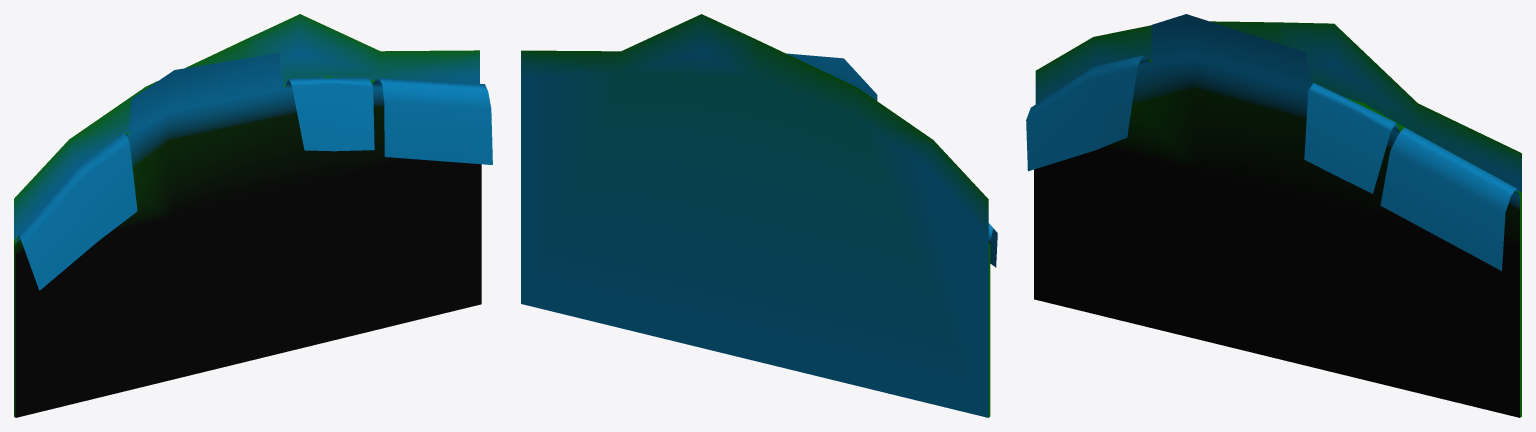
The model's file is DBK_Drywall_Tile_B_Single.fbx.
3 renders of one model, left to right at view 1: azimuth 30°, elevation 25°; view 2: azimuth 150°, elevation 25°; view 3: azimuth 330°, elevation 25°, orthographic. The views are drawn at different scales.
Visible parts, largest first — view 1: DBK_Drywall_Tile_B_Single; view 2: DBK_Drywall_Tile_B_Single; view 3: DBK_Drywall_Tile_B_Single.
Part boxes in pixels (x1,y1,x2,y2): DBK_Drywall_Tile_B_Single: (14, 14, 492, 417); DBK_Drywall_Tile_B_Single: (521, 14, 997, 417); DBK_Drywall_Tile_B_Single: (1026, 14, 1521, 417).
Size of what is drawn, in the model's own units: 300 by 205 by 22.57.
